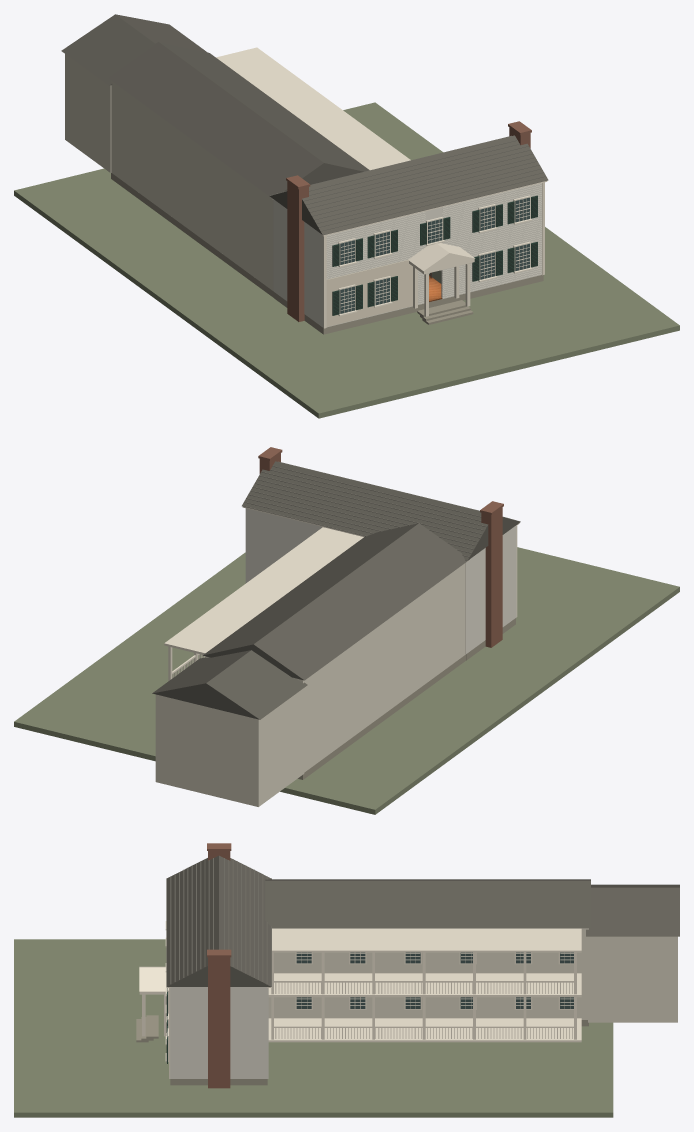
File: world-low.glb
The picture shows the model from 3 angles, top to bottom: view 1: azimuth 30°, elevation 25°; view 2: azimuth 150°, elevation 25°; view 3: azimuth 270°, elevation 25°; orthographic projection.
Visible parts, largest first — view 1: Cutaway landscape, Ell roof, Brick ell, limewash, Chair rail and skirting, Gable wall, Roof battens, Ashlar foundation, Shutters, Ell lights, Chimney coping, Chimney breast, Firebox; view 2: Cutaway landscape, Ell roof, Brick ell, limewash, Chair rail and skirting, Gable wall, Roof battens, Chimney coping, Ashlar foundation; view 3: Cutaway landscape, Ell roof, Chair rail and skirting, Brick ell, limewash, Gable wall, Roof battens, Chimney coping, Ell lights, Ashlar foundation.
Boxes of the visible parts, x1,y1,x2,y2 form: Cutaway landscape: (14,102,679,418); Ell roof: (61,14,547,234); Brick ell, limewash: (65,54,471,290); Chair rail and skirting: (216,47,547,328); Gable wall: (273,183,541,327); Roof battens: (269,135,548,235); Ashlar foundation: (111,173,543,334); Shutters: (332,195,537,315); Ell lights: (340,197,529,313); Chimney coping: (286,121,531,321); Chimney breast: (326,260,412,326); Firebox: (333,197,537,314); Cutaway landscape: (14,547,679,814); Ell roof: (152,461,520,719); Brick ell, limewash: (155,563,465,806); Chair rail and skirting: (164,506,519,680); Gable wall: (245,508,516,653); Roof battens: (242,461,520,560); Chimney coping: (258,447,503,647); Ashlar foundation: (298,618,515,779); Cutaway landscape: (14,939,613,1117); Ell roof: (167,855,679,986); Chair rail and skirting: (139,921,581,1078); Brick ell, limewash: (268,928,677,1022); Gable wall: (170,987,268,1078); Roof battens: (166,858,271,986); Chimney coping: (207,843,231,1088); Ell lights: (167,952,573,1036); Ashlar foundation: (136,1015,588,1085).
Size of the model in its own units: 26 by 9.68 by 42.23.
Materials: 38 (7 with a texture image).
